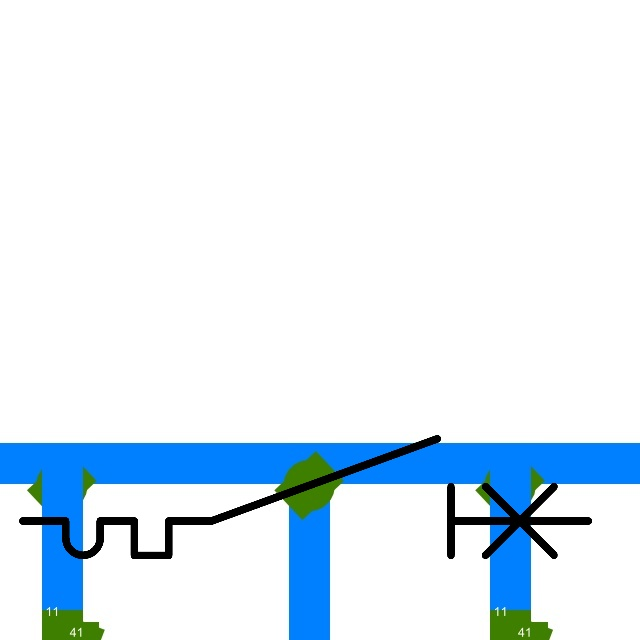interruptor_termomagnetico: (8, 424, 602, 570)
